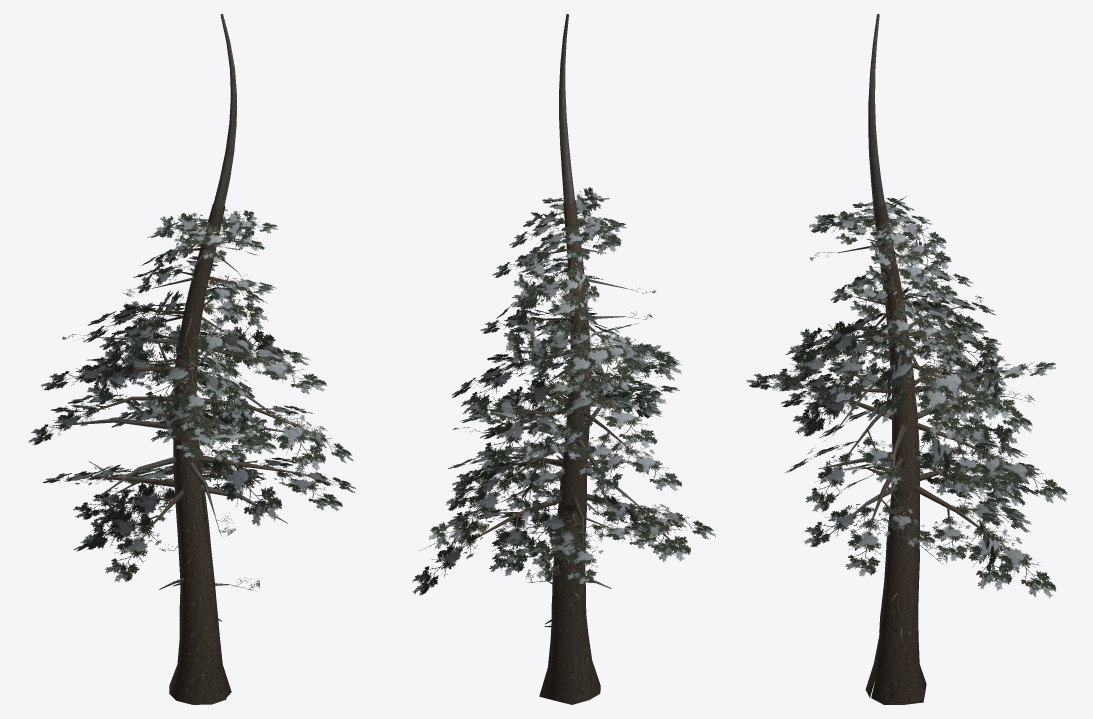
File: tree_v6_pine_mangy_broken_winter.glb
3 views of the same model, side by side, from view 1: azimuth 30°, elevation 25°; view 2: azimuth 150°, elevation 25°; view 3: azimuth 270°, elevation 25° (orthographic). The views are drawn at different scales.
Parts seen in each view (by area): view 1: tree_v6_pine_mangy_broken_winter_LOD0; view 2: tree_v6_pine_mangy_broken_winter_LOD0; view 3: tree_v6_pine_mangy_broken_winter_LOD0.
Boxes of the visible parts, x1,y1,x2,y2 form: tree_v6_pine_mangy_broken_winter_LOD0: (28,14,356,704); tree_v6_pine_mangy_broken_winter_LOD0: (412,14,715,704); tree_v6_pine_mangy_broken_winter_LOD0: (746,14,1067,704).
Size of what is drawn, in the model's own units: 5.43 by 12.18 by 5.37.
Materials: 1 (1 with a texture image).
